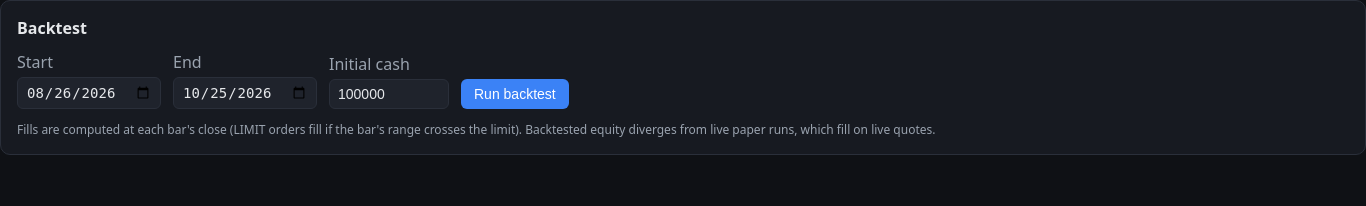
BacktestPanel › shows the run error message when a run FAILED
Click the button "Run backtest" at (515,94), box [461,79,569,109]
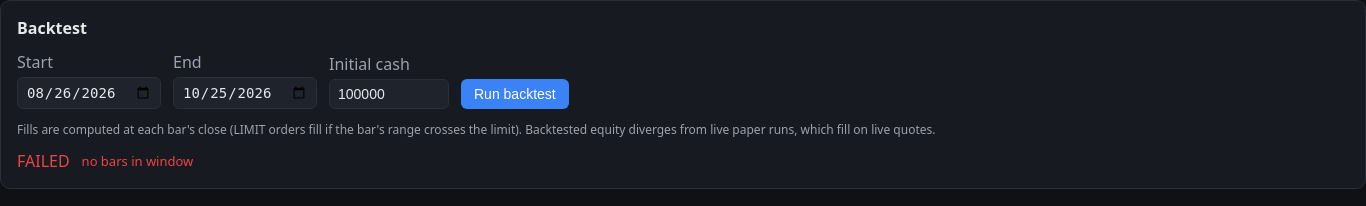
Expected: the text "no bars in window" is shown, [82,152,193,170]
